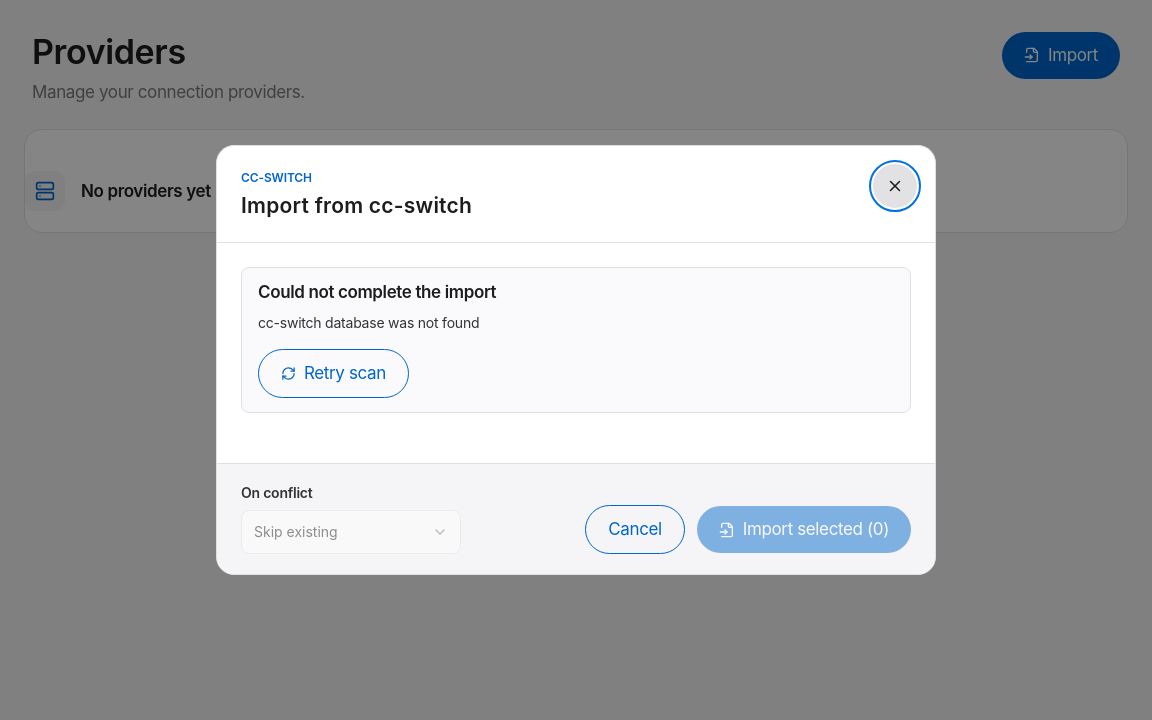
Test case: ProviderPanel › shows scan failures in the dialog and retries
This screenshot has width=1152, height=720.
expect the message "Could not complete the import cc-switch database was not found Retry scan" is shown: met, box [241, 267, 911, 413]
Click the button "Retry scan": (333, 374) [258, 349, 409, 398]
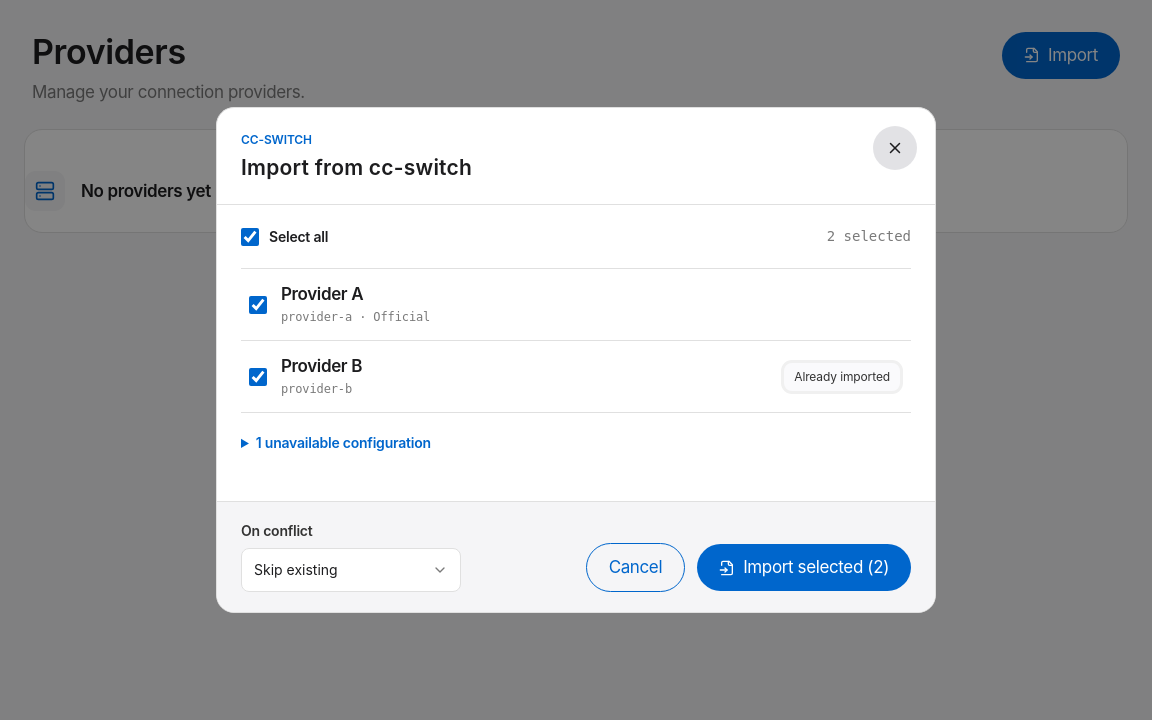
expect the checkbox labelled "Provider A provider-a · Official" is shown: met, box [249, 296, 267, 314]
